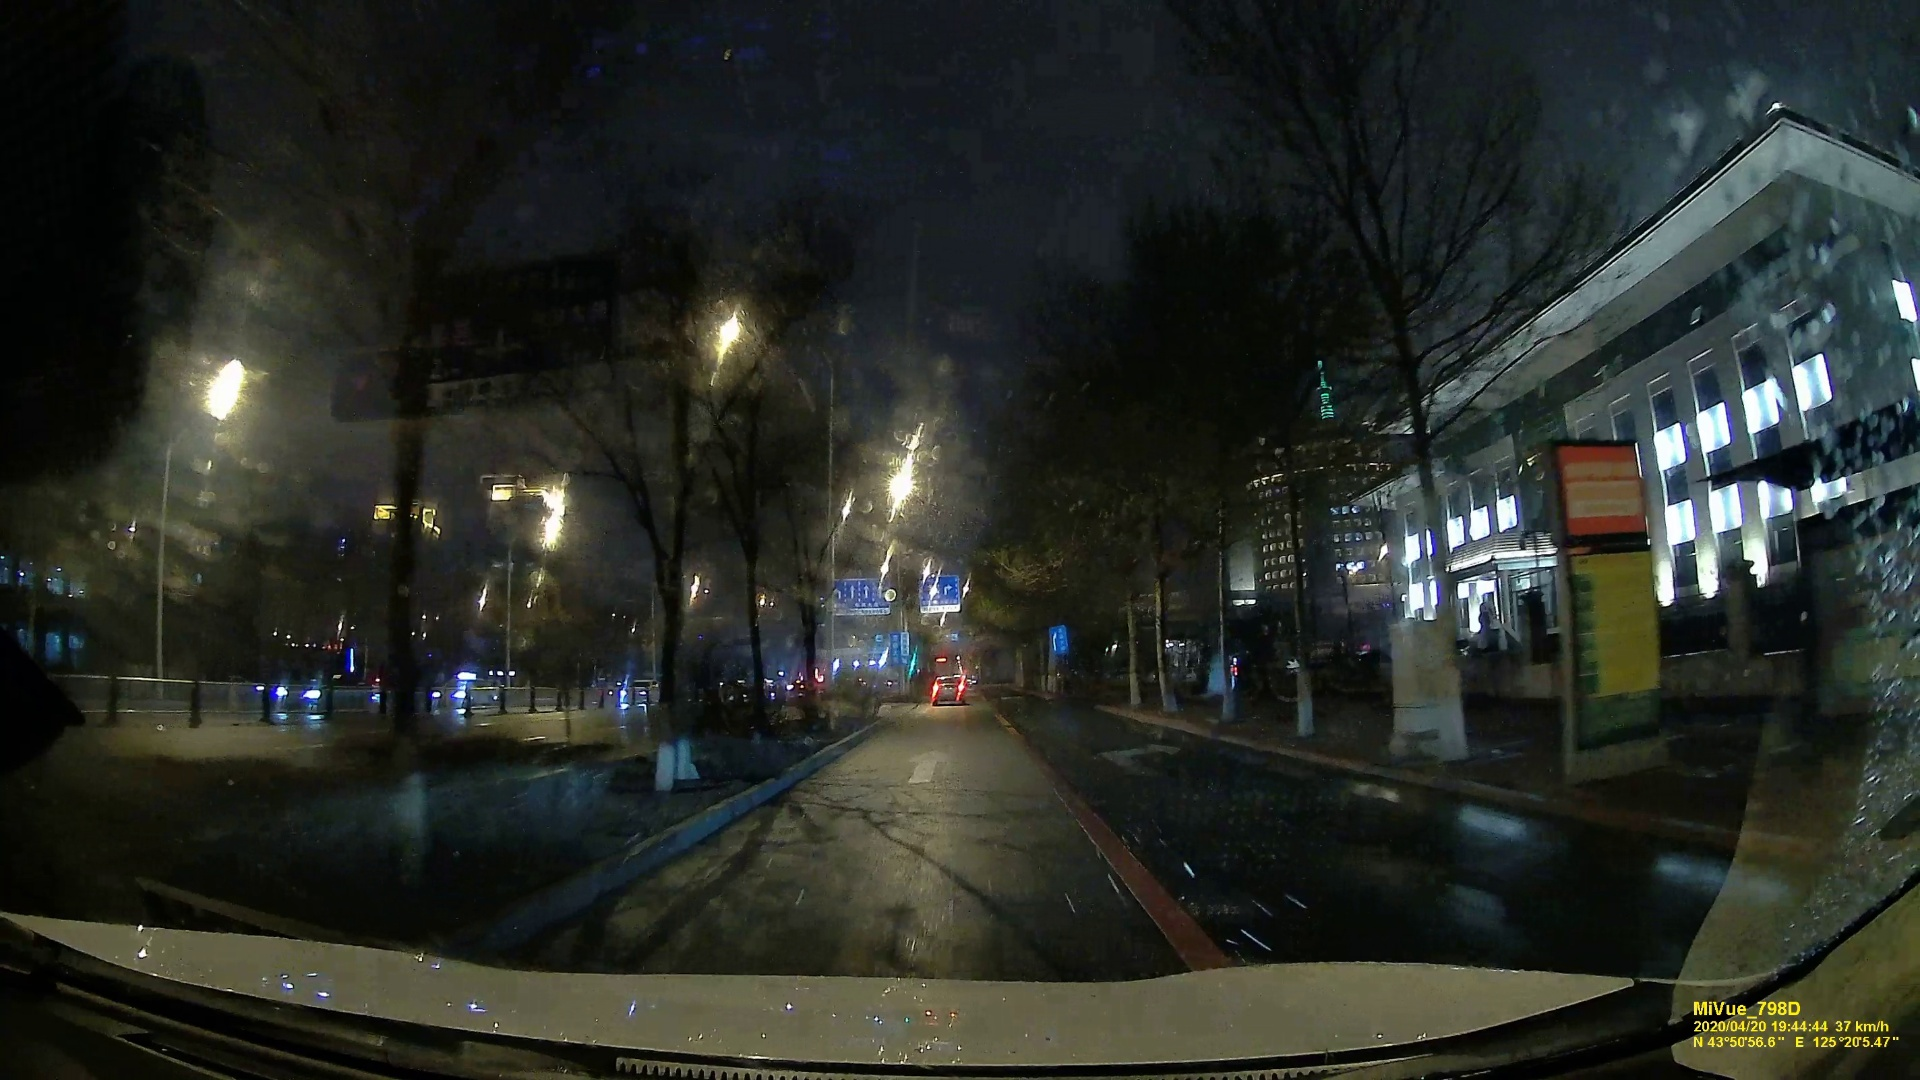traffic_sign: (833, 578, 889, 617), (919, 578, 956, 615)
vehicle: (272, 669, 371, 707), (928, 675, 964, 703)
